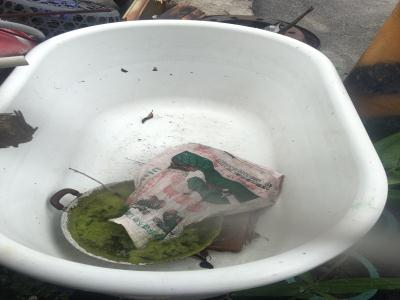bowl: (59, 178, 228, 268)
tub: (3, 16, 388, 292)
